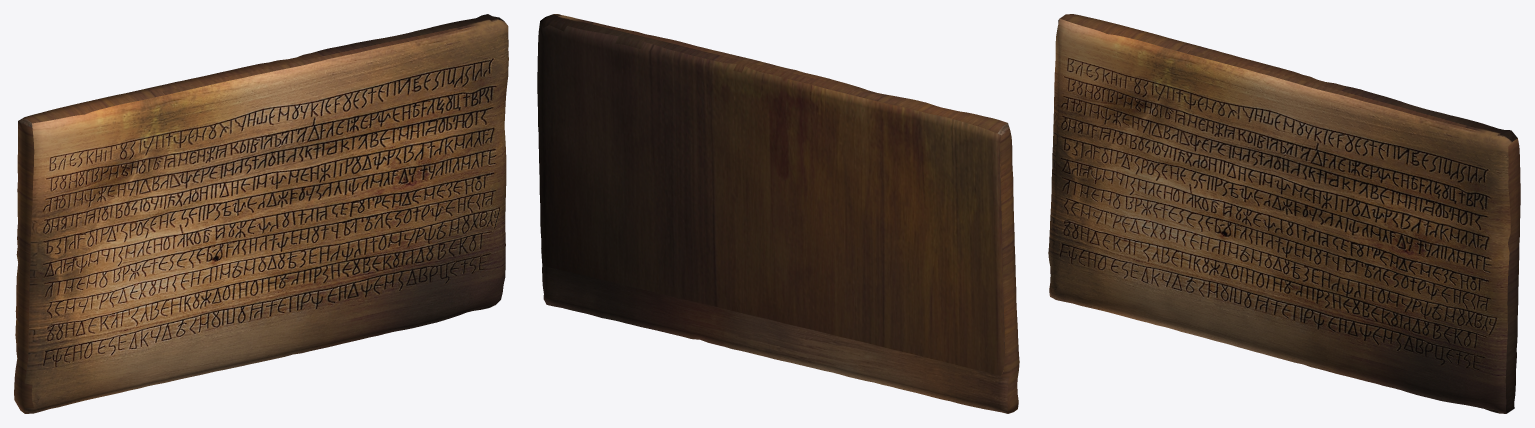
3 views of the same model, side by side, from view 1: azimuth 30°, elevation 25°; view 2: azimuth 150°, elevation 25°; view 3: azimuth 330°, elevation 25° (orthographic). The views are drawn at different scales.
Parts seen in each view (by area): view 1: Alphabet_of_Veles_mesh; view 2: Alphabet_of_Veles_mesh; view 3: Alphabet_of_Veles_mesh.
Part boxes in pixels (x1,y1,x2,y2): Alphabet_of_Veles_mesh: (14,14,508,413); Alphabet_of_Veles_mesh: (537,14,1019,413); Alphabet_of_Veles_mesh: (1048,14,1520,413).
Size of the model in its own units: 0.5921 by 0.3476 by 0.0477.
Materials: 1 (1 with a texture image).
